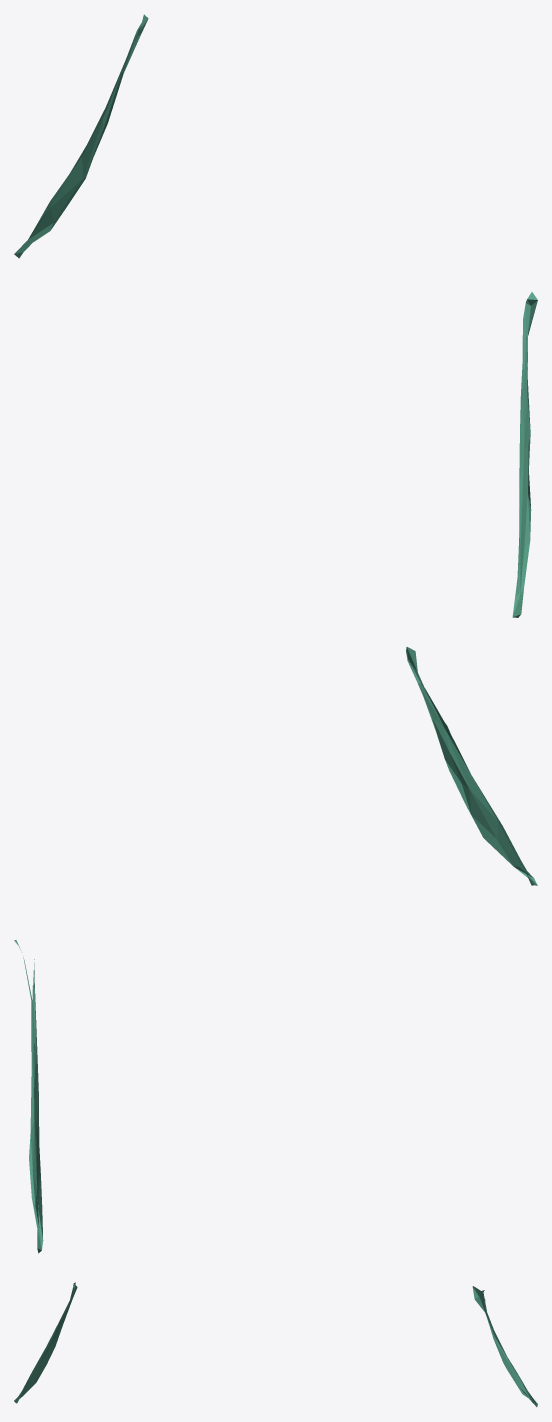
3 views of the same model, one above another, from view 1: azimuth 30°, elevation 25°; view 2: azimuth 150°, elevation 25°; view 3: azimuth 270°, elevation 25° (orthographic). The views are drawn at different scales.
Parts seen in each view (by area): view 1: 527696977.obj; view 2: 527696977.obj; view 3: 527696977.obj.
Part boxes in pixels (x1=…): 527696977.obj: x1=14, y1=14, x2=537, y2=617; 527696977.obj: x1=14, y1=647, x2=537, y2=1253; 527696977.obj: x1=14, y1=1282, x2=537, y2=1406.
Bounding box in the file's own units: 210 × 667 × 2218.
